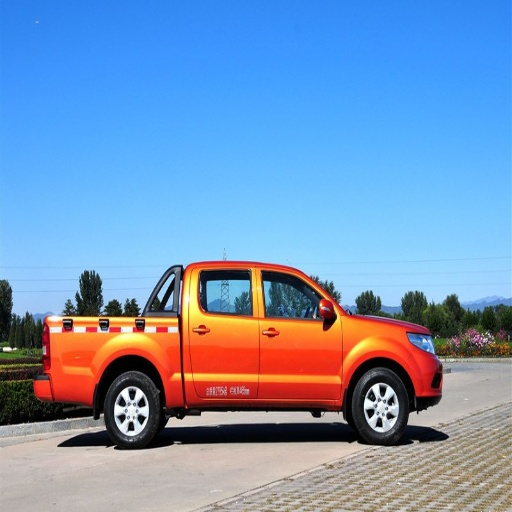back_left_light: (187, 267, 258, 397)
front_left_light: (259, 267, 342, 397)
tailgate: (53, 318, 182, 403)
trunk: (103, 371, 160, 447), (351, 368, 408, 443)
